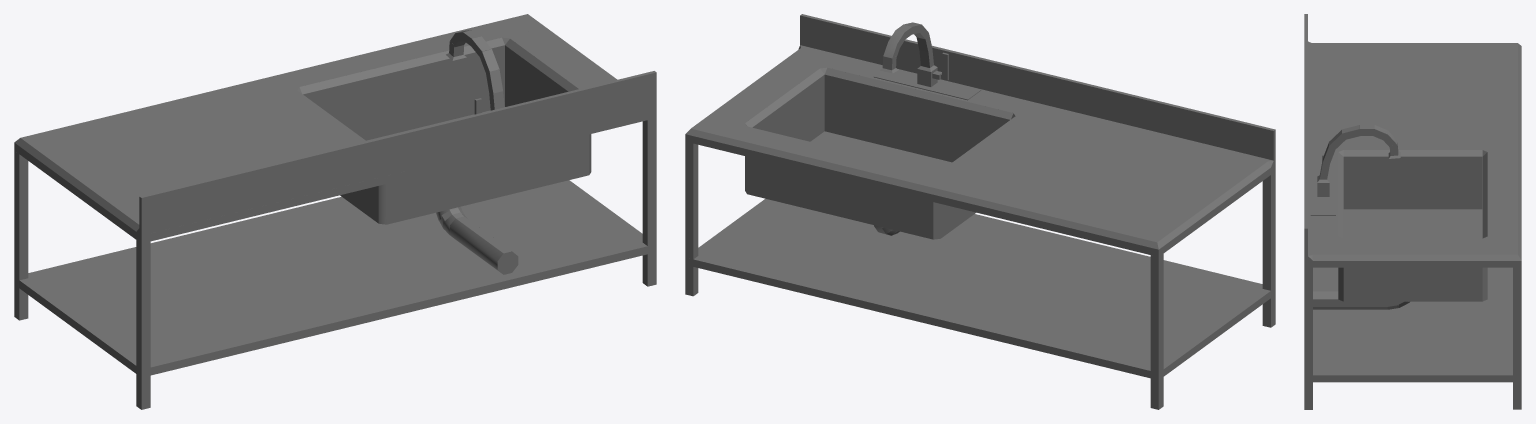
File: kt_sink.fbx
3 renders of one model, left to right at view 1: azimuth 30°, elevation 25°; view 2: azimuth 150°, elevation 25°; view 3: azimuth 270°, elevation 25°, orthographic. The views are drawn at different scales.
Parts seen in each view (by area): view 1: kt_sink_LOD0; view 2: kt_sink_LOD0; view 3: kt_sink_LOD0.
Boxes of the visible parts, x1,y1,x2,y2 form: kt_sink_LOD0: [14, 14, 656, 409]; kt_sink_LOD0: [685, 14, 1275, 409]; kt_sink_LOD0: [1304, 14, 1521, 409].
Size of what is drawn, in the model's own units: 2.29 by 1.1 by 0.9786.
Materials: 1 (1 with a texture image).
